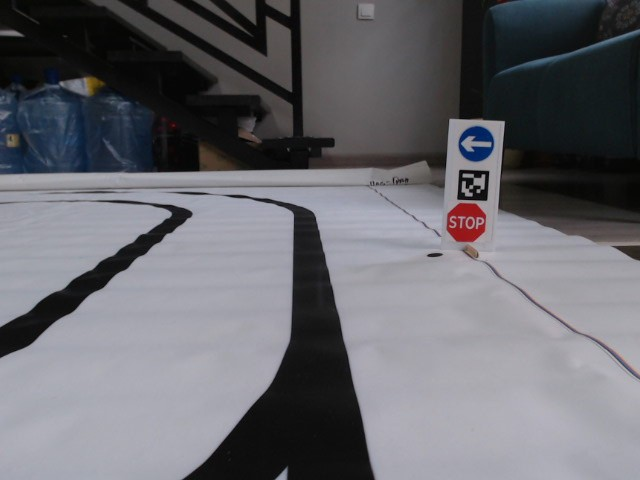Stop: (447, 202, 487, 245)
